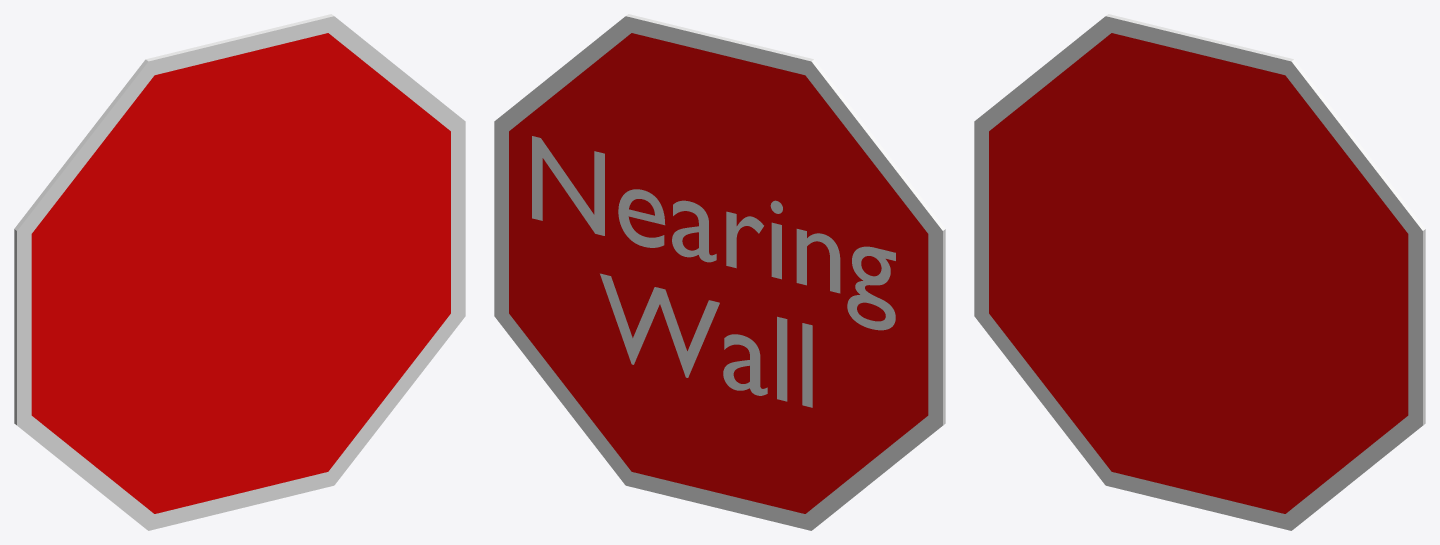
The model's file is generalwarning.fbx.
3 views of the same model, side by side, from view 1: azimuth 30°, elevation 25°; view 2: azimuth 150°, elevation 25°; view 3: azimuth 330°, elevation 25° (orthographic).
Parts seen in each view (by area): view 1: Sign; view 2: Sign; view 3: Sign.
Boxes of the visible parts, left/top/right/bottom form: Sign: left=14, top=14, right=465, bottom=530; Sign: left=494, top=14, right=945, bottom=530; Sign: left=974, top=14, right=1425, bottom=530.
Size of the model in its own units: 22.17 by 22.17 by 0.375.
